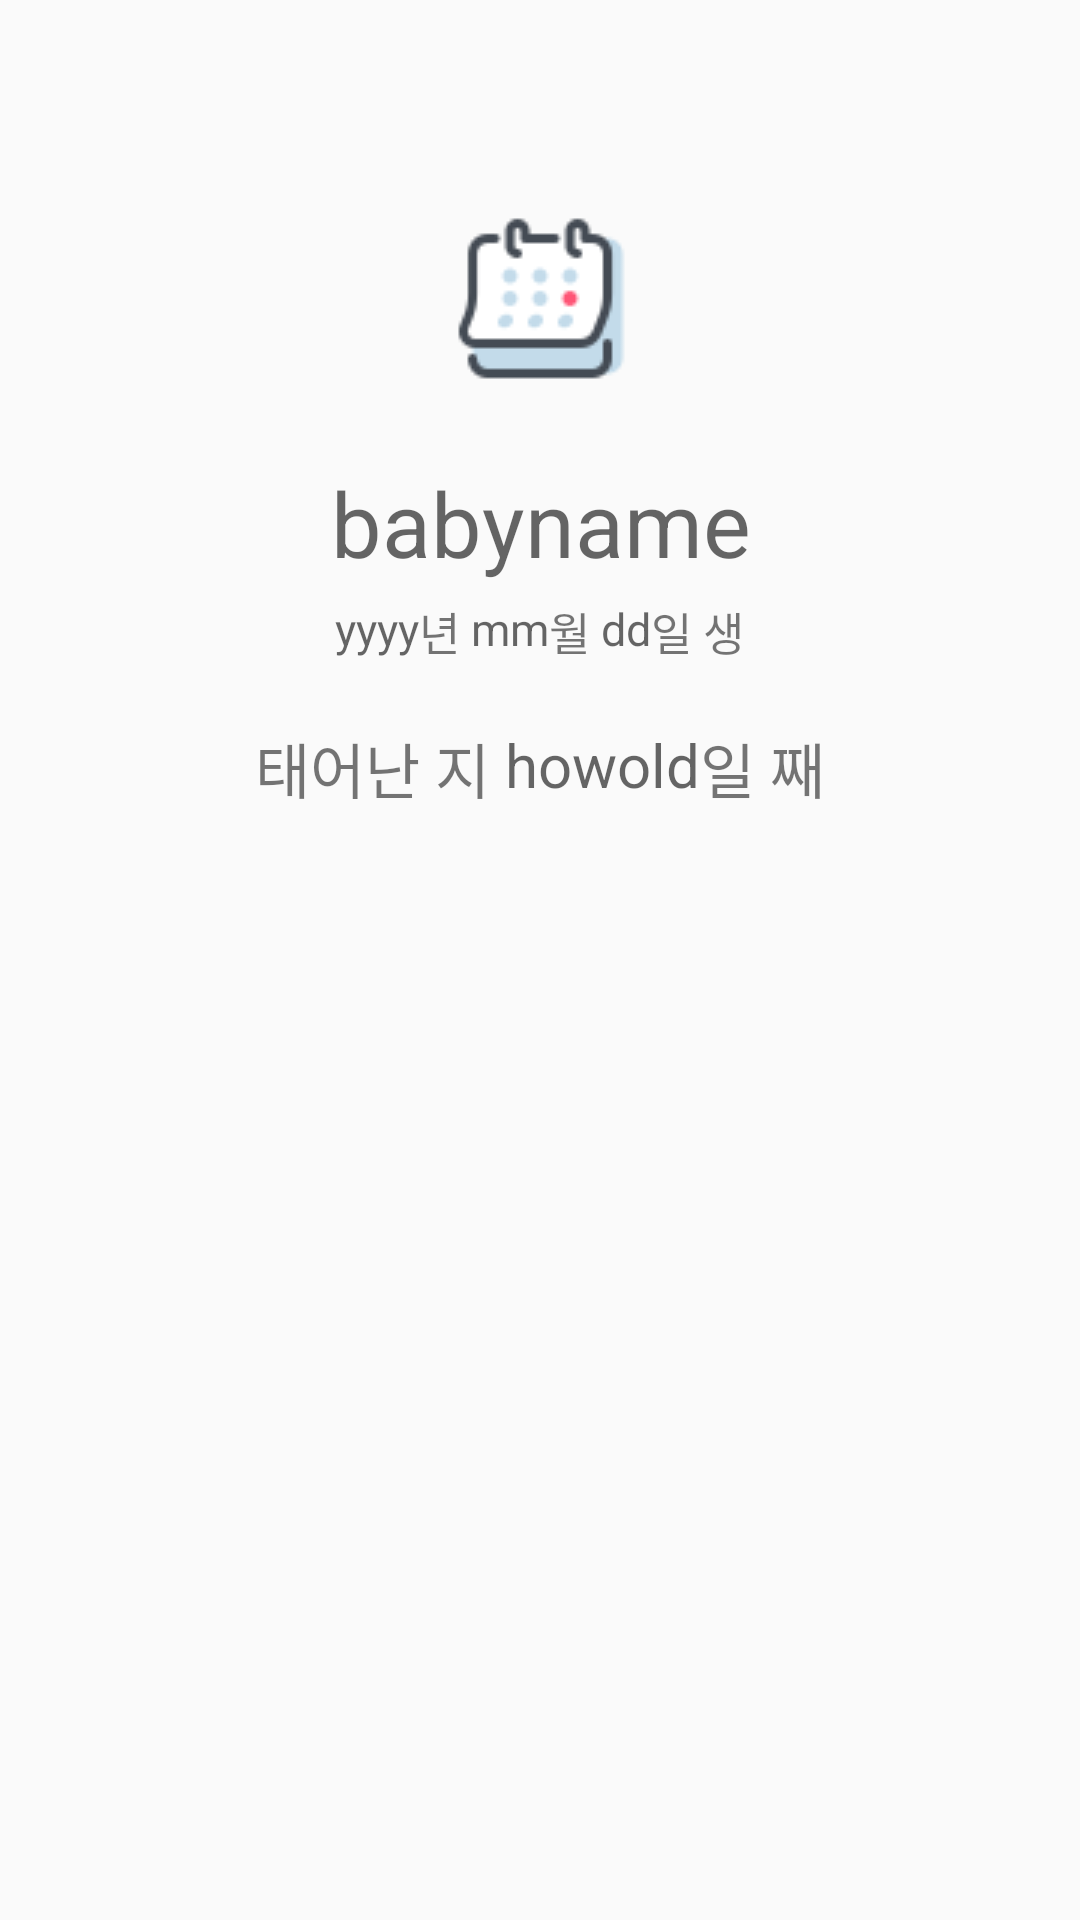

Locate icon controls on the screen. Image size 1080x1920, boxes as region(x1, y1, x2, y2).
calendar: region(458, 218, 623, 379)
